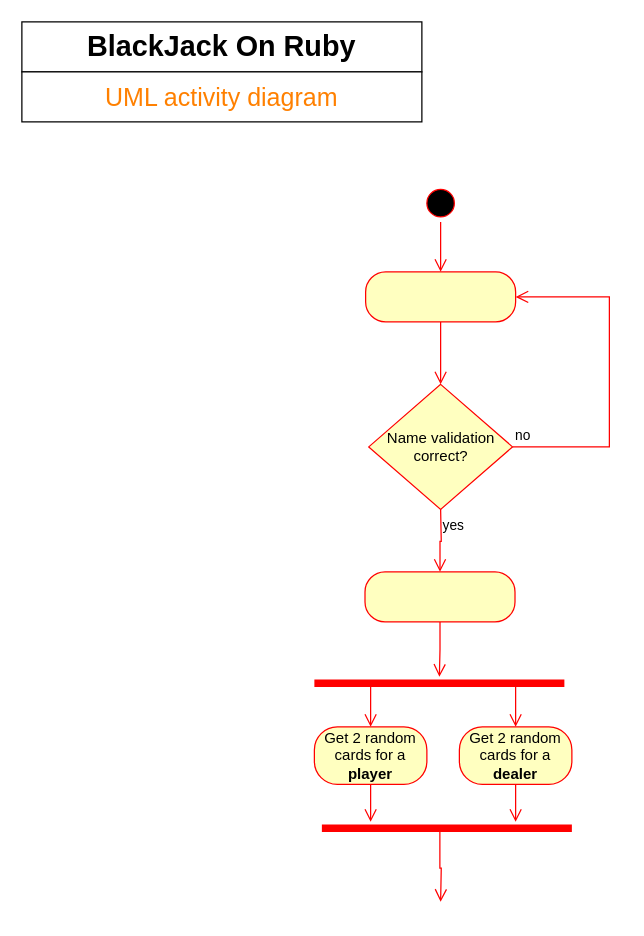
Image size: 644x936. Some labels were removed from this diagram. The shapes that lost their labels are listed below. From the top down, each one's centre as x and y in pixels, then its label:
At pixel 440 296: "Ask a player name".
At pixel 439 596: "Start a new game".
